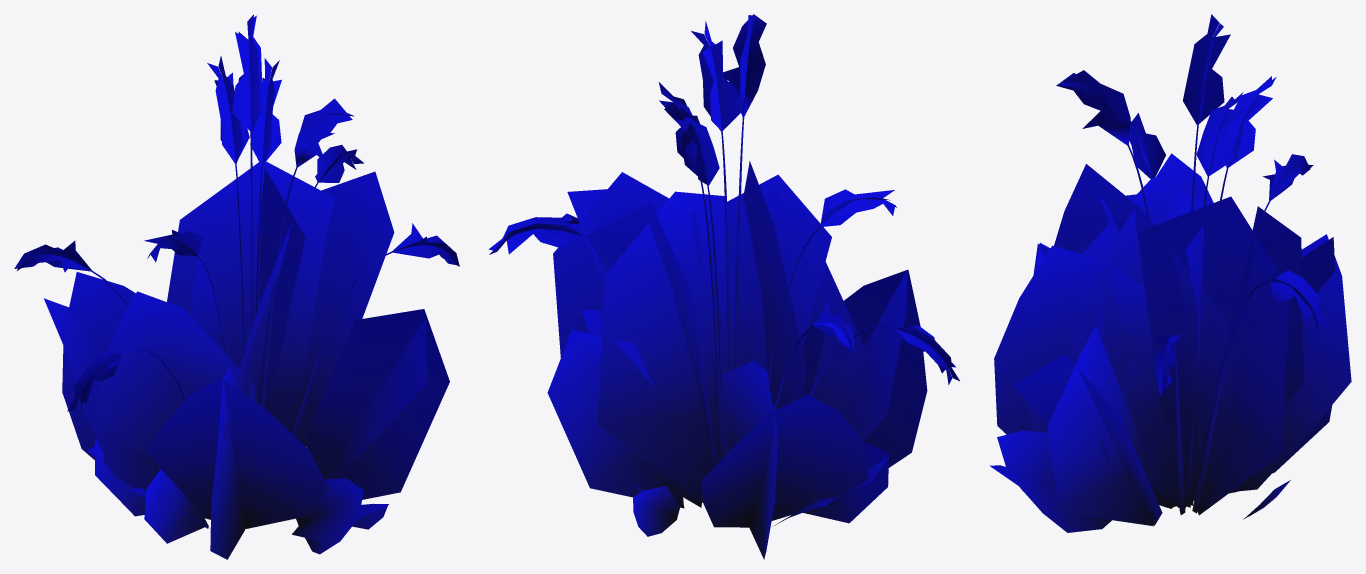
File: SM_WildGrass_L_01.fbx
3 renders of one model, left to right at view 1: azimuth 30°, elevation 25°; view 2: azimuth 150°, elevation 25°; view 3: azimuth 270°, elevation 25°, orthographic. The views are drawn at different scales.
Parts seen in each view (by area): view 1: SM_WildGrass_L_01_LOD0; view 2: SM_WildGrass_L_01_LOD0; view 3: SM_WildGrass_L_01_LOD0.
Part boxes in pixels (<box>): SM_WildGrass_L_01_LOD0: <box>14,14,459,559</box>; SM_WildGrass_L_01_LOD0: <box>488,14,959,559</box>; SM_WildGrass_L_01_LOD0: <box>989,14,1351,532</box>.
Bounding box in the file's own units: 126 × 95.04 × 148.
